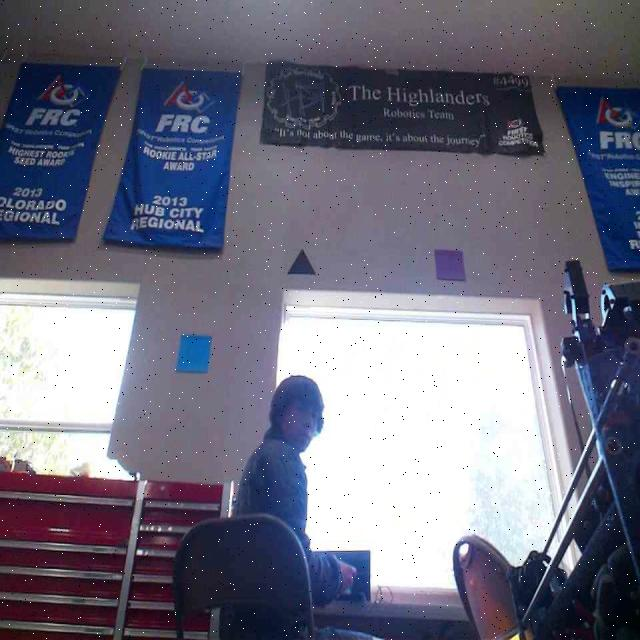square_blue: (174, 332, 211, 372)
square_purple: (432, 247, 466, 279)
triangle_black: (285, 248, 316, 275)
